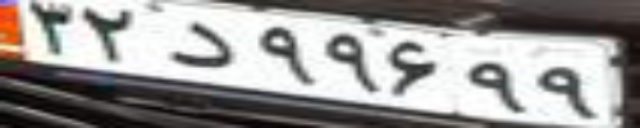2: (80, 6, 133, 63)
3: (27, 1, 74, 55)
6: (385, 40, 435, 96)
9: (536, 65, 599, 118), (325, 31, 375, 92), (468, 60, 523, 115), (261, 26, 309, 85)
dal: (168, 22, 231, 69)
